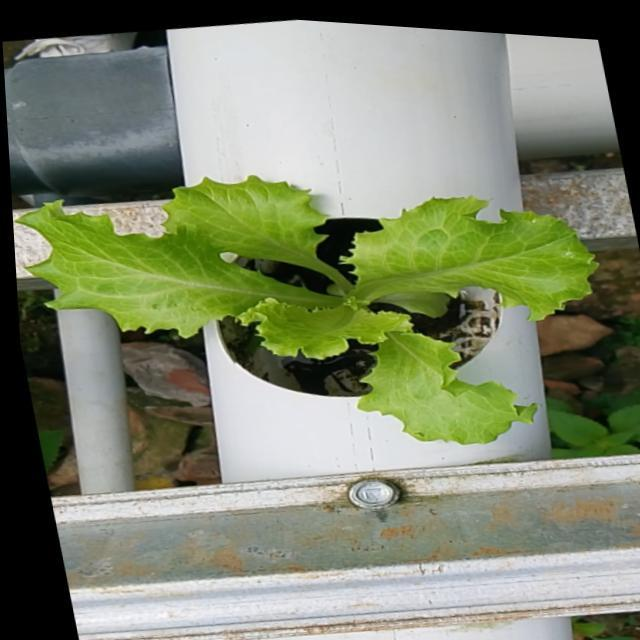Baby: (20, 177, 602, 445)
